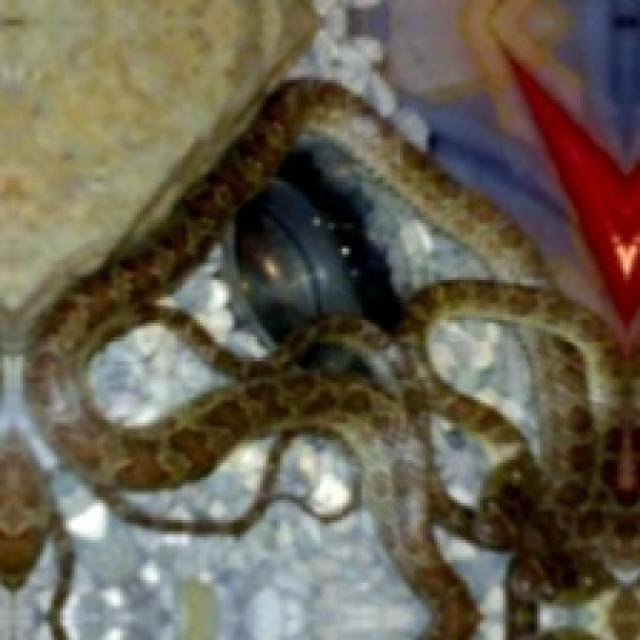mullers wolf snake: (26, 80, 637, 637), (157, 134, 514, 360), (86, 320, 229, 426), (426, 317, 537, 440), (129, 434, 277, 523)
